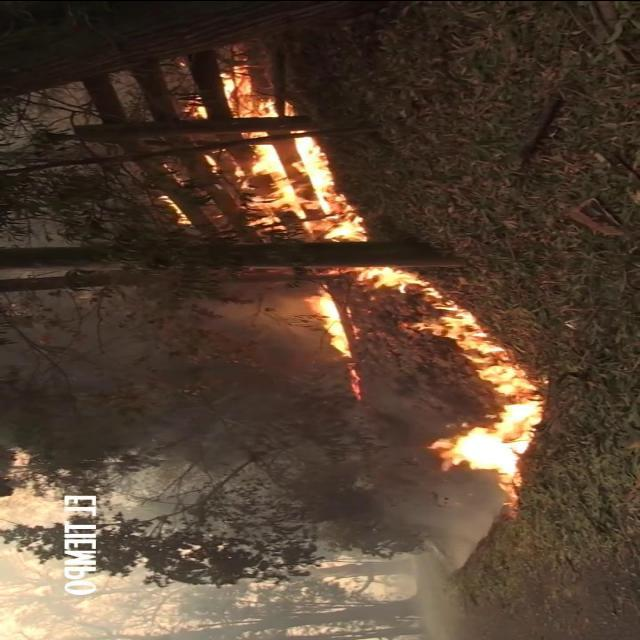Fire: (399, 302, 545, 488), (225, 133, 362, 241), (319, 266, 439, 297), (220, 68, 294, 118), (305, 289, 353, 356), (154, 193, 193, 225), (343, 364, 365, 400), (180, 102, 208, 120)
